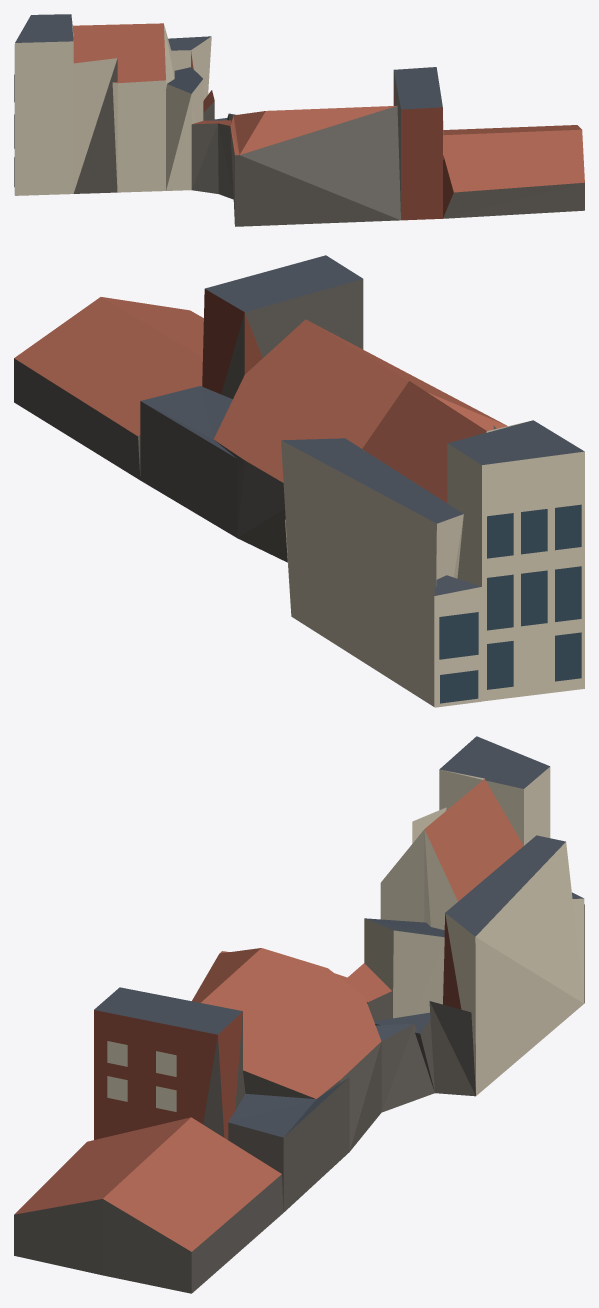
3 views of the same model, one above another, from view 1: azimuth 30°, elevation 25°; view 2: azimuth 150°, elevation 25°; view 3: azimuth 270°, elevation 25° (orthographic). The views are drawn at different scales.
Visible parts, largest first — view 1: lod2; view 2: lod2; view 3: lod2.
Part boxes in pixels (x1,y1,x2,y2): lod2: [14, 14, 584, 226]; lod2: [14, 255, 584, 707]; lod2: [14, 736, 584, 1293].
Size of the model in its own units: 64.19 by 20.23 by 46.45.
